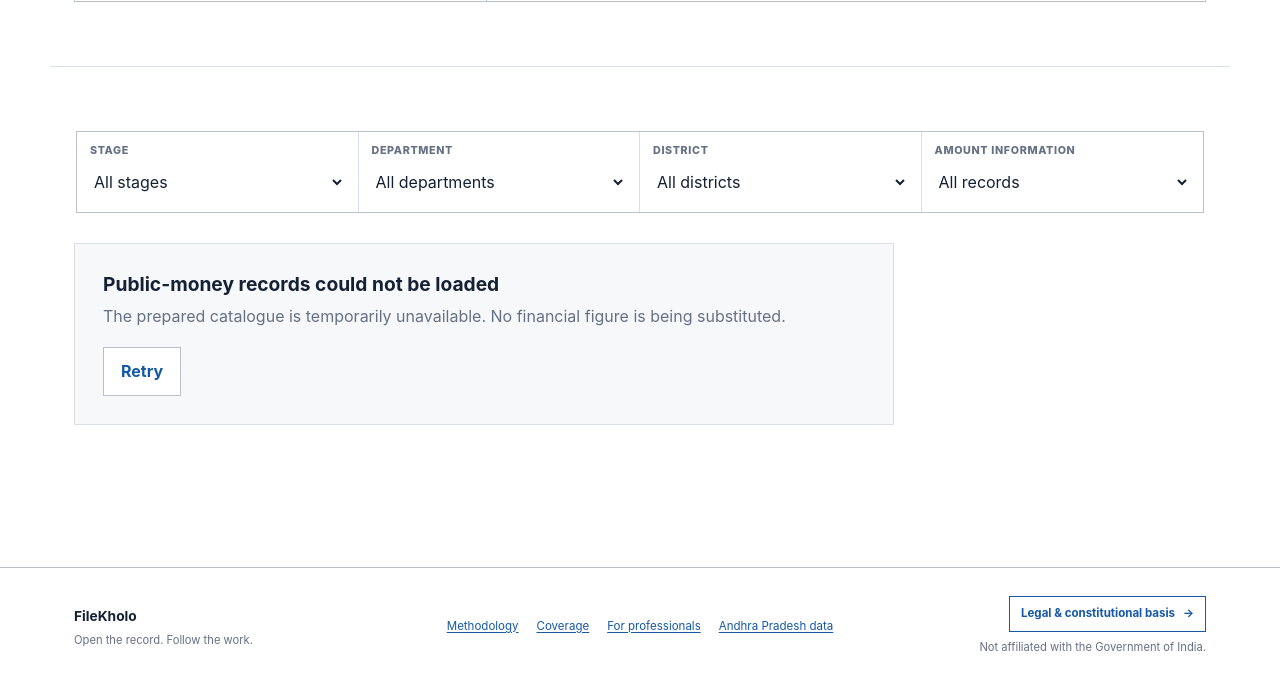
it: PublicMoneyDirectory › reports failures, retries, then shows filtered-empty honestly
This screenshot has width=1280, height=680.
(page scrolled)
Expected: the message shows "No financial figure is being substituted", 103,306 -> 786,326
Click the button "Retry". click: [142, 372]
box: 103,347 -> 181,396
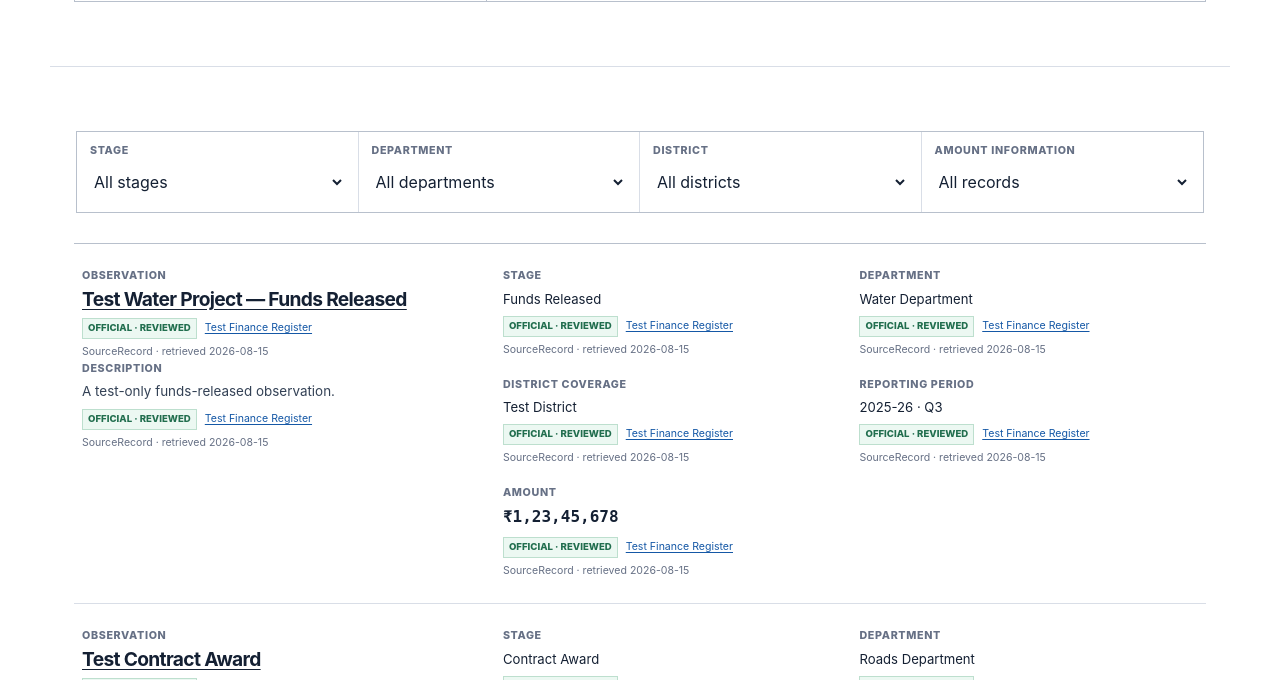
Now the heading "Test Water Project — Funds Released" is shown, box 82,287 -> 407,311
Select "Funds Released" in the dropdown labelled "Stage". click: [217, 182]
box: 90,163 -> 344,201
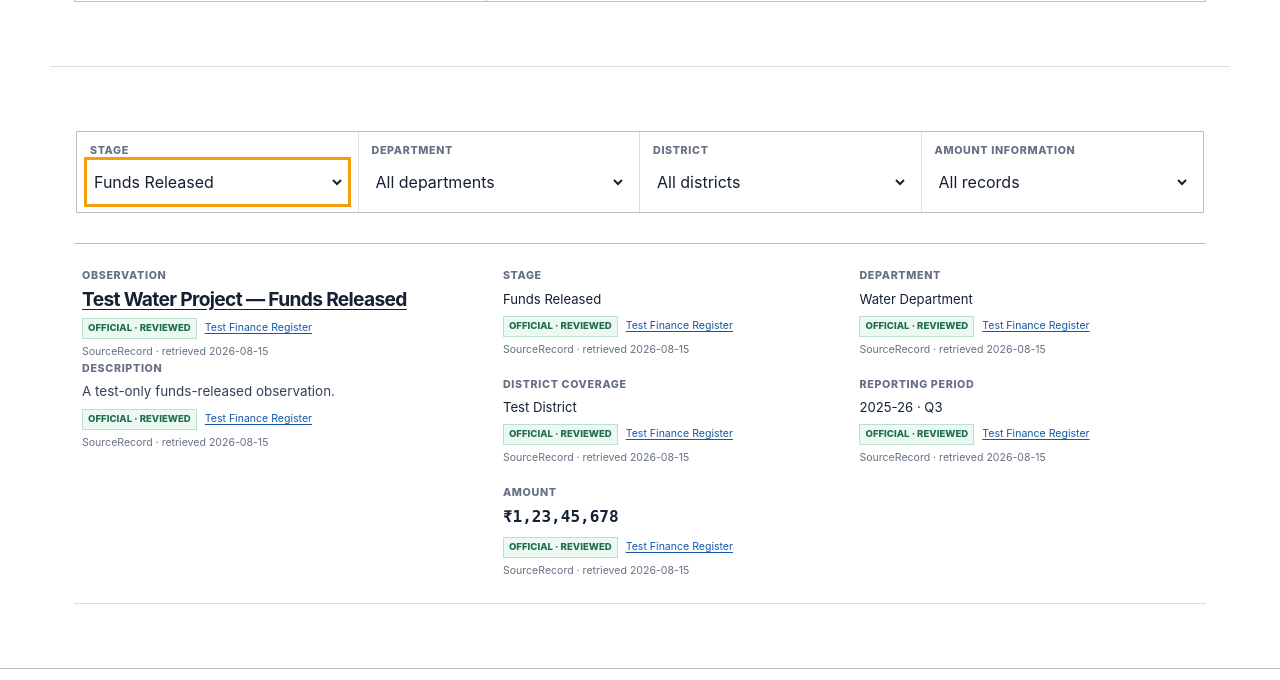
Select "Roads Department" in the dropdown labelled "Department". click: [499, 182]
box: 372,163 -> 626,201
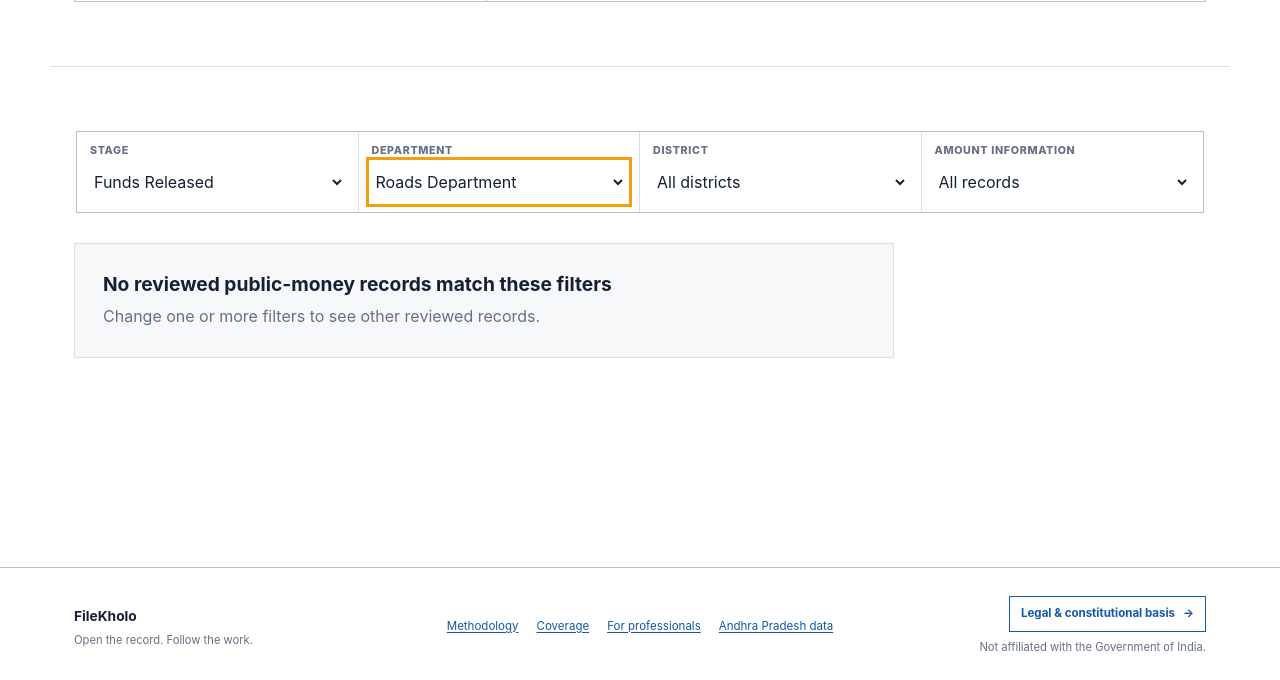
Now the heading "No reviewed public-money records match these filters" is shown, box 103,272 -> 612,296
